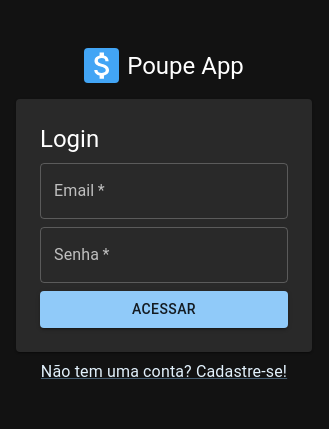
Login › Toggle Login and Register state
This screenshot has width=329, height=429.
Click the link "Não tem uma conta? Cadastre-se!": (164, 371) [41,362,287,381]
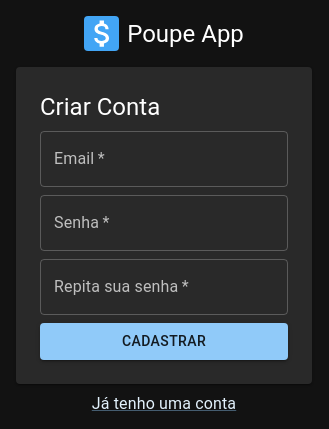
expect the heading "Criar Conta" is shown: met, box [40,93,160,121]
Click the link "Já tenho uma conta": (164, 403) [92,394,236,413]
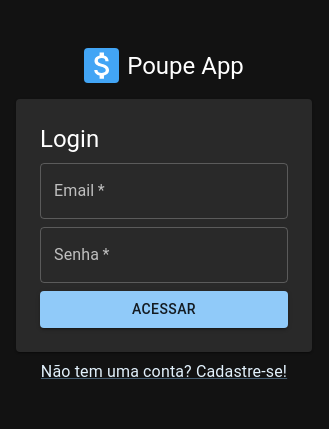
expect the heading "Login" is shown: met, box [40,125,99,153]
